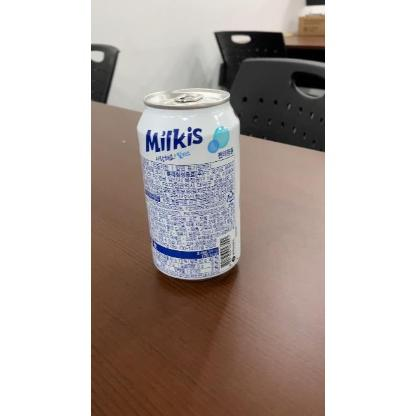Can: (135, 88, 245, 284)
